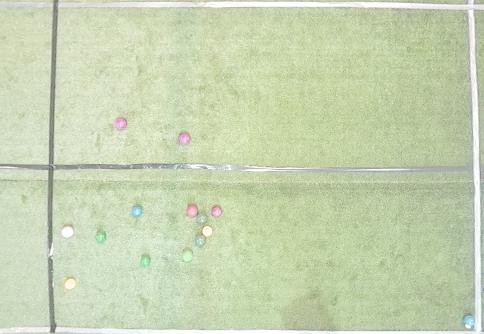blue: (463, 315, 475, 326), (132, 205, 142, 217)
green: (183, 250, 193, 262), (196, 236, 206, 246), (197, 214, 207, 224), (141, 256, 150, 266), (96, 232, 106, 241)
red: (61, 226, 74, 238), (187, 205, 198, 217), (115, 118, 126, 129), (179, 133, 190, 144), (212, 206, 222, 217)
vline: (1, 0, 59, 333), (466, 0, 483, 334)
white: (465, 325, 470, 329)
yellow: (64, 278, 76, 289), (202, 226, 212, 237)
